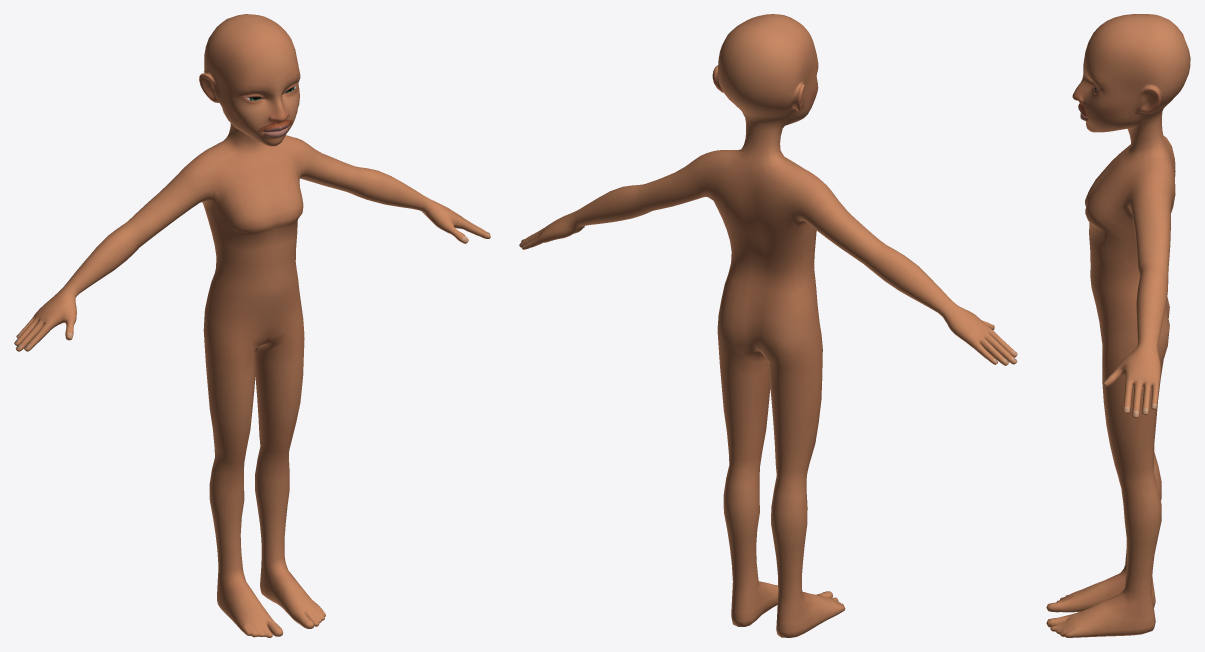
The model's file is frame_0009.glb.
The picture shows the model from 3 angles, left to right: view 1: azimuth 30°, elevation 25°; view 2: azimuth 150°, elevation 25°; view 3: azimuth 270°, elevation 25°; orthographic projection. The views are drawn at different scales.
Visible parts, largest first — view 1: frame_0009_head_geo; view 2: frame_0009_head_geo; view 3: frame_0009_head_geo.
Boxes of the visible parts, x1=… form: frame_0009_head_geo: x1=14, y1=14, x2=490, y2=637; frame_0009_head_geo: x1=519, y1=14, x2=1017, y2=637; frame_0009_head_geo: x1=1046, y1=14, x2=1190, y2=637.
Bounding box in the file's own units: 1.28 × 1.5 × 0.3253.
Materials: 3 (3 with a texture image).
